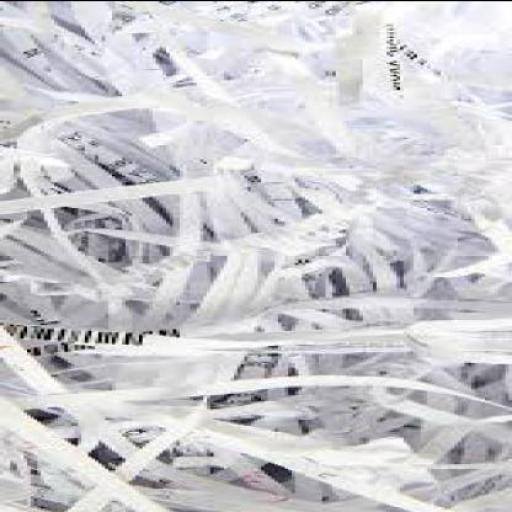paper: (3, 0, 512, 511)
